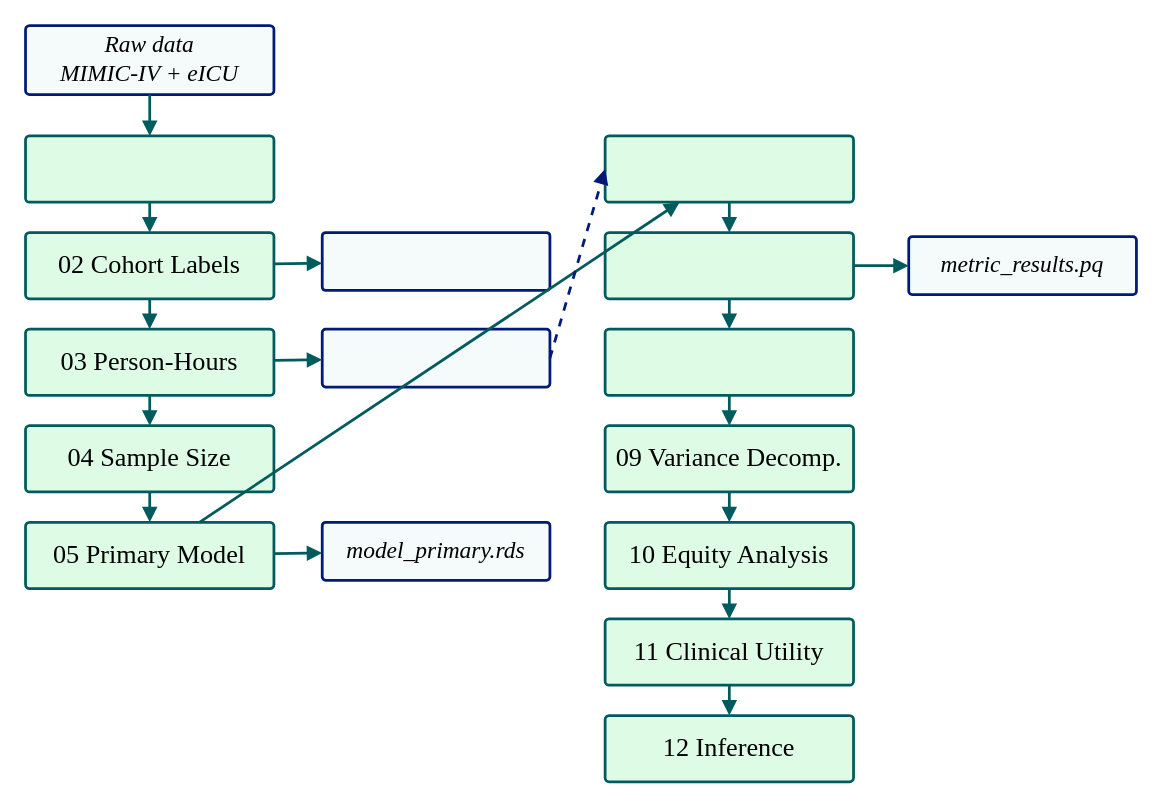
The diagram is 1161 pixels wide and 806 high, and some of its shapes have lost their labels. Here are the shapes that lost their labels. From the top down, the centre of each, then its label:
point 149,168: 01 Setup
point 728,168: 06 Comparators
point 435,260: cohort_{A,B,C}.pq
point 728,264: 07 Metrics Suite
point 435,357: person_hours.pq
point 728,361: 08 External Valid.
